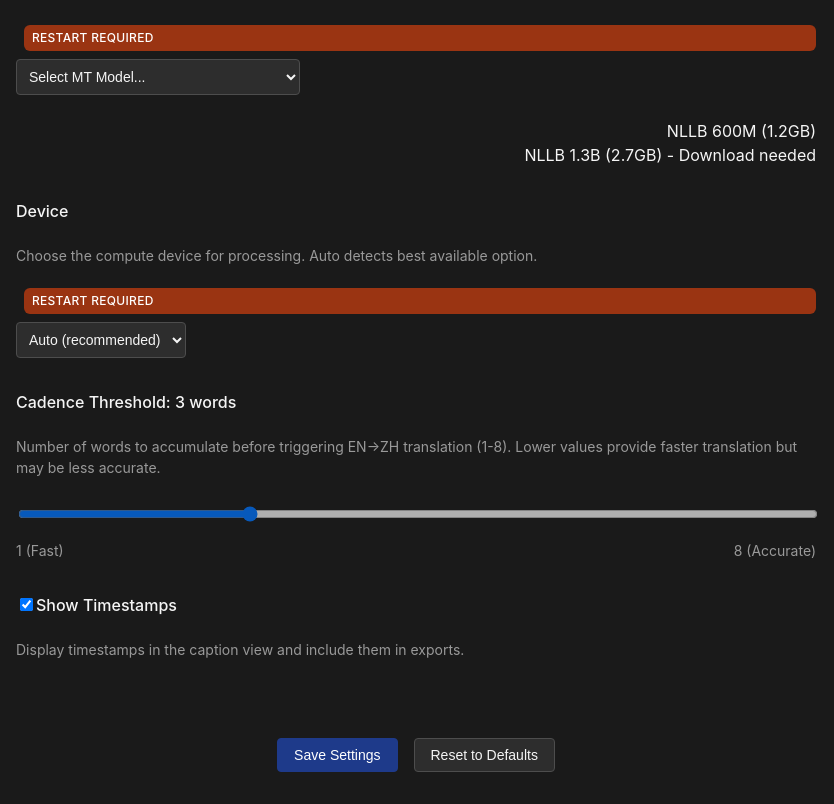
Test: SettingsView › Accessibility › should announce state changes to screen readers
The image size is (834, 804).
(page scrolled)
Note: Test success state announcement
Click the button "Save Settings": (337, 755) [277,738,398,772]
(page scrolled)
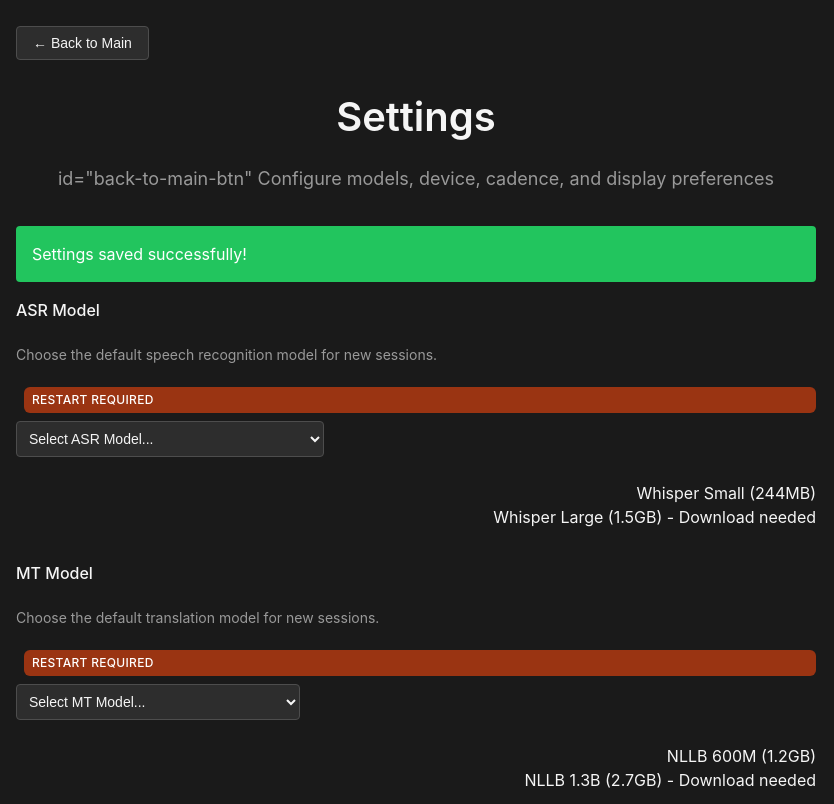
Now the text "Settings saved successfully!" is shown, box [16,226,816,282]
